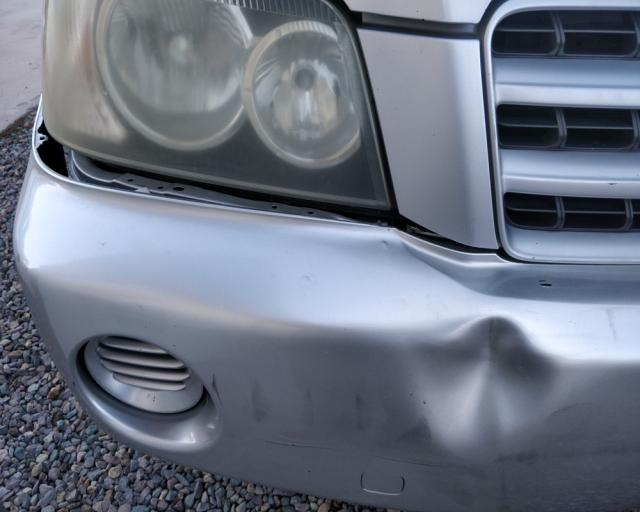dent: (410, 317, 554, 447)
